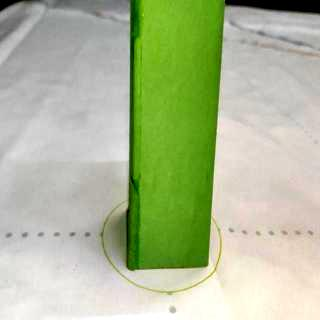greenbox: (130, 0, 228, 270)
